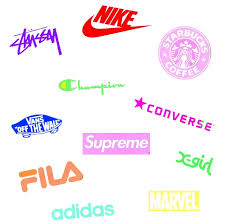adidas: (52, 204, 115, 219)
nike: (82, 14, 152, 39)
vans: (25, 115, 45, 126)
